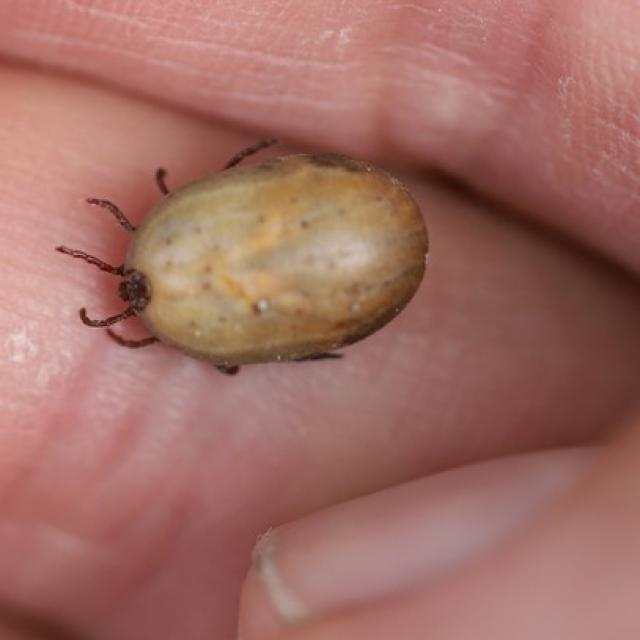Dermacentor Reticulatus-F-Fed: (55, 139, 429, 376)
